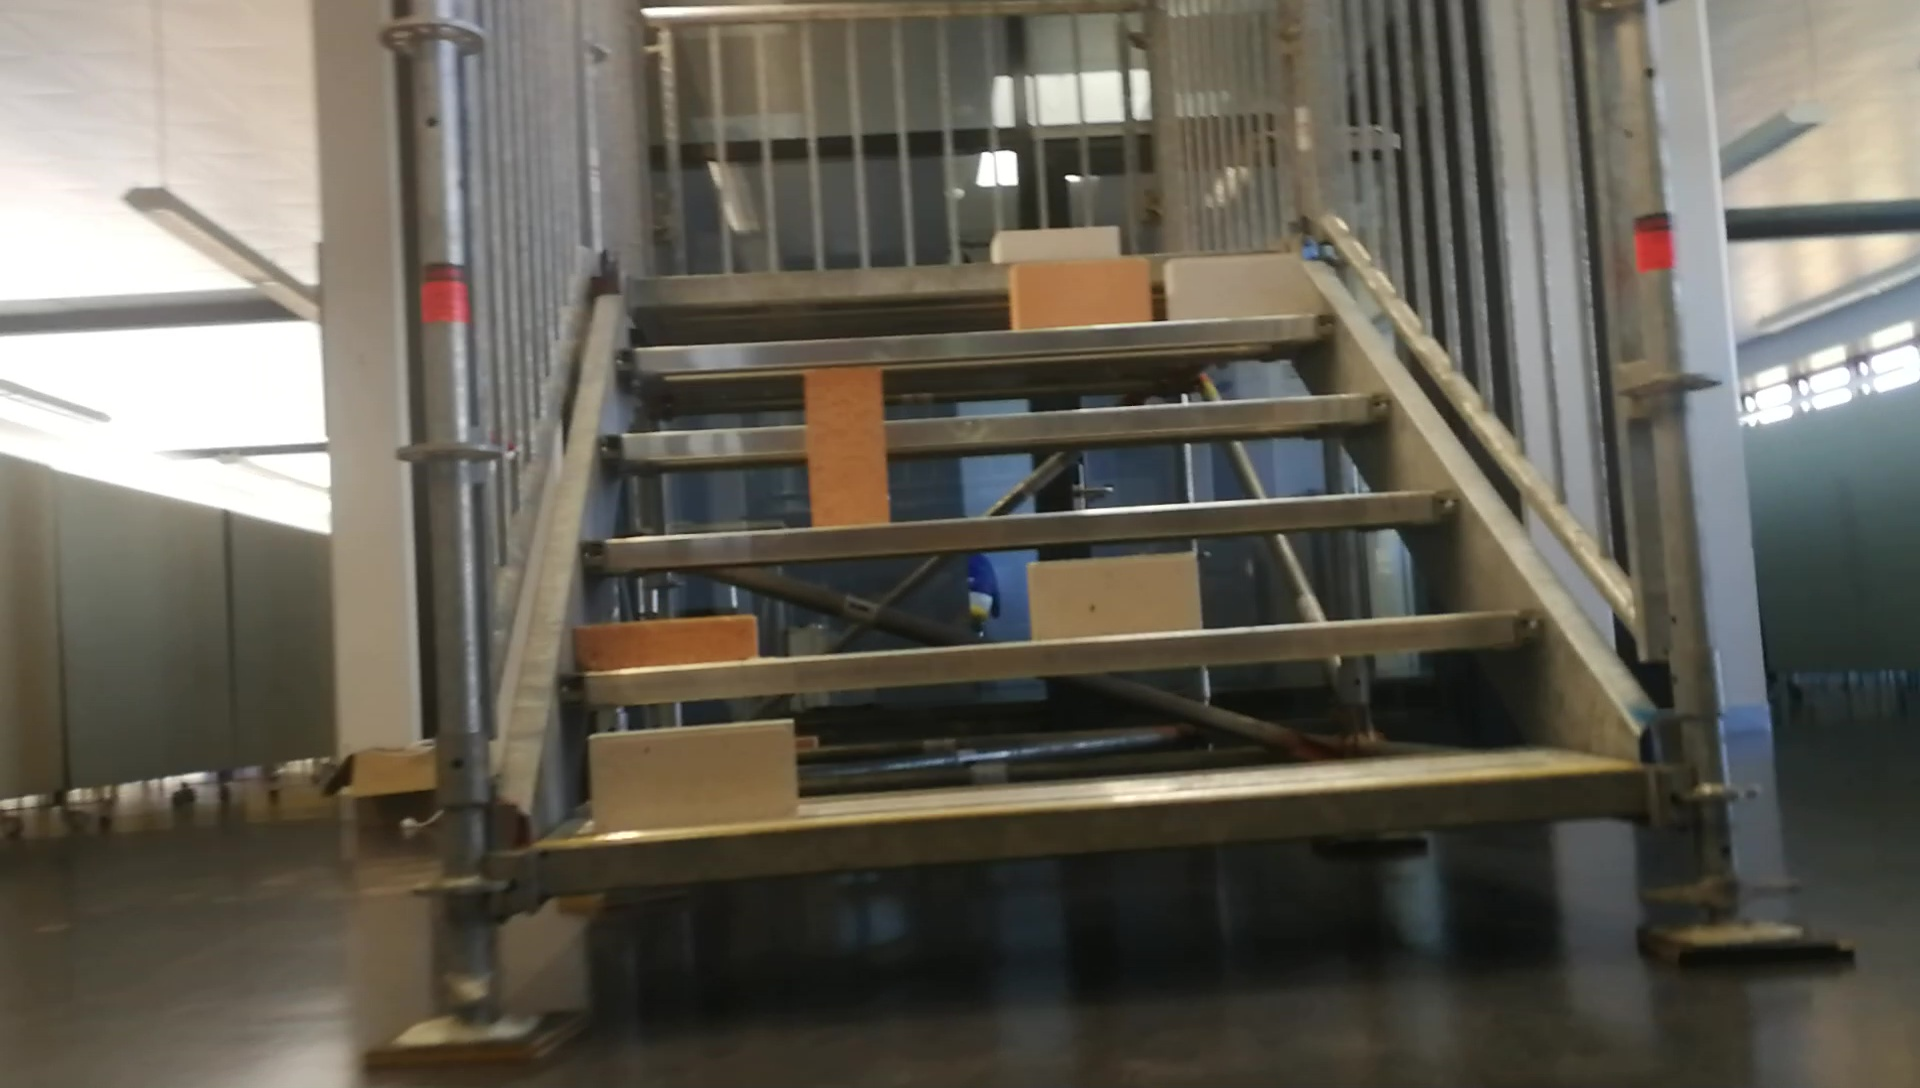brick: (593, 719, 789, 830), (1033, 557, 1195, 636), (807, 369, 885, 522), (578, 613, 752, 666), (1010, 262, 1145, 324), (1167, 257, 1298, 318), (992, 229, 1116, 257)
edge: (535, 762, 1644, 888), (559, 613, 1548, 706), (583, 487, 1452, 566), (597, 390, 1398, 462), (615, 313, 1336, 373)
stairs: (355, 3, 1855, 1066)
steps: (522, 220, 1658, 902)
